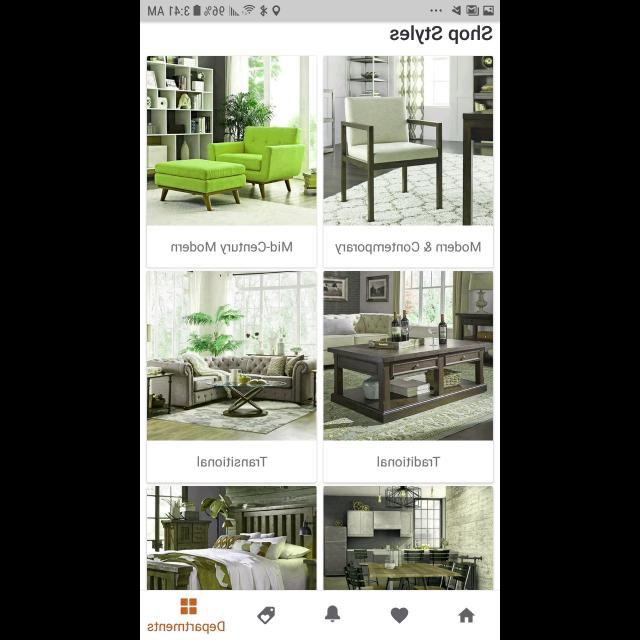icon: (257, 606, 275, 624), (390, 608, 408, 624), (180, 598, 197, 614), (324, 606, 340, 622), (458, 608, 474, 622)
image: (323, 55, 493, 225), (323, 271, 492, 441), (147, 272, 317, 440), (148, 56, 316, 225), (147, 486, 317, 590), (323, 486, 493, 590)
text: (335, 241, 481, 255), (390, 25, 492, 45), (172, 241, 292, 255), (148, 621, 225, 635), (197, 457, 267, 467), (378, 457, 440, 468)
uppertaskbar: (140, 1, 500, 22)
